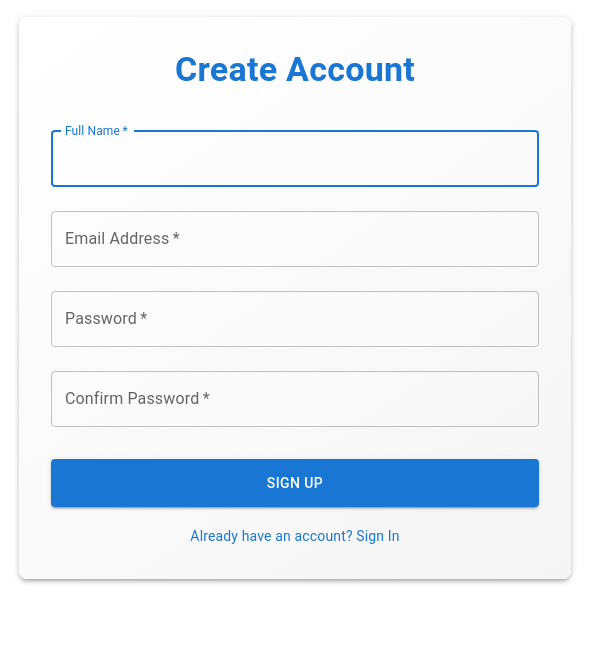
it: Register Component › validates email format
Type "John Doe" into the field labelled "Full Name *" at [295, 159], box [51,131,539,187]
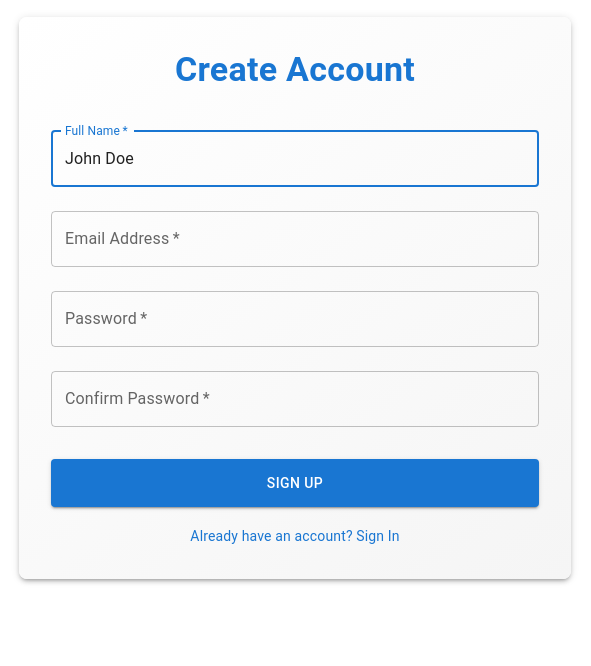
Type "invalid-email" into the field labelled "Email Address *" at [295, 239], box [51,211,539,267]
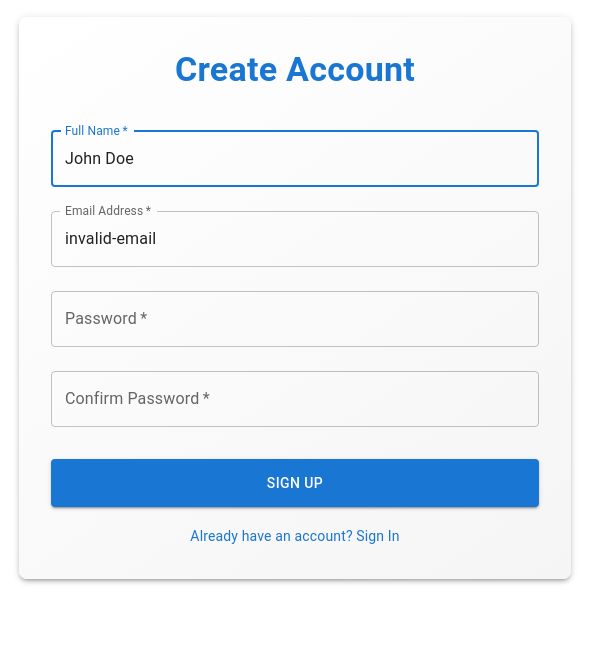
Type "Password123!" into the password field labelled "Password *" at [295, 319], box [51,291,539,347]
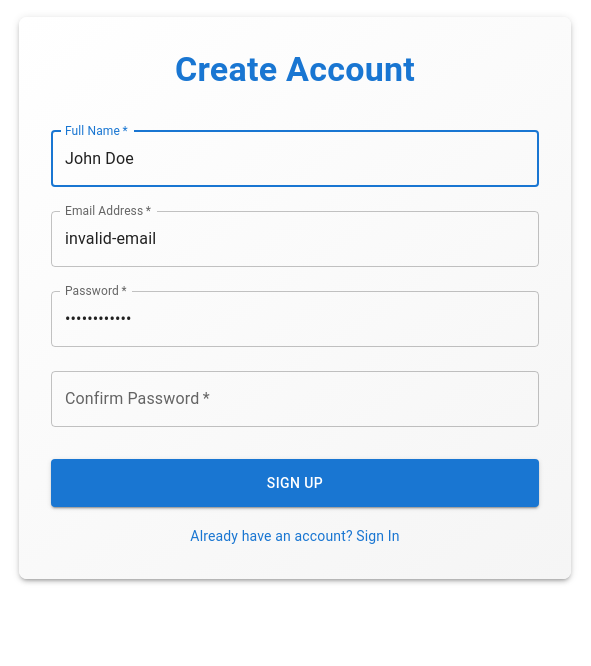
Type "Password123!" into the password field labelled "Confirm Password *" at [295, 399], box [51,371,539,427]
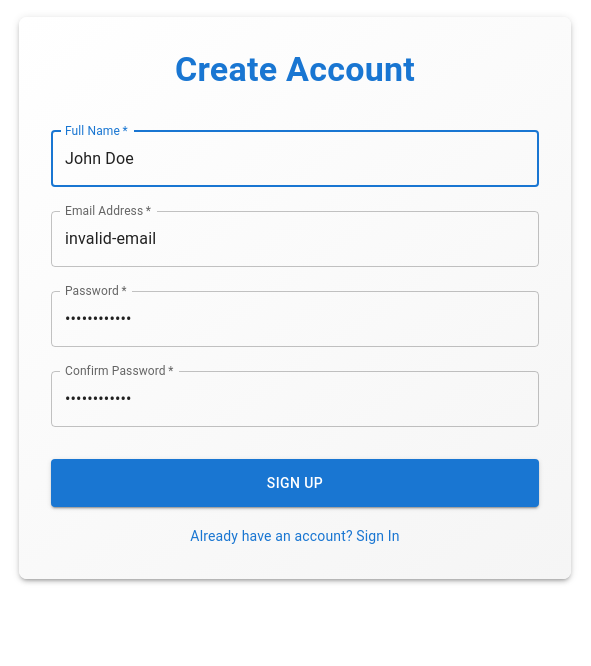
Click the button "Sign Up" at [295, 483], box [51,459,539,508]
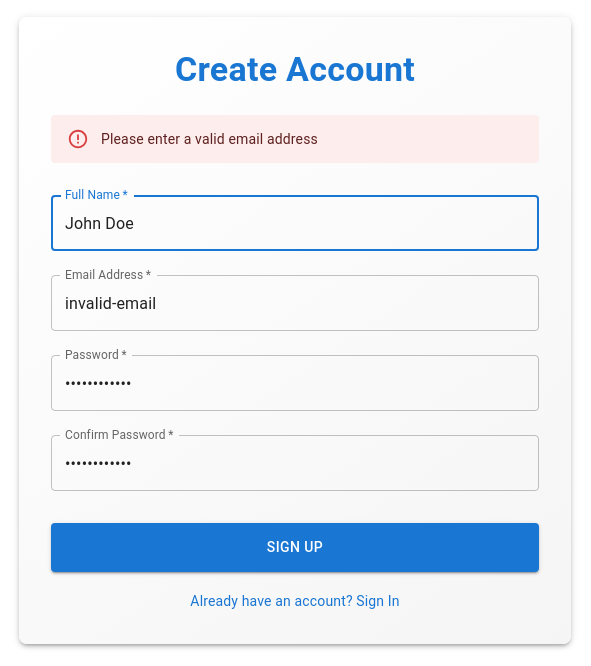
Check: the text "Please enter a valid email address" is shown, box [101,131,318,147]
